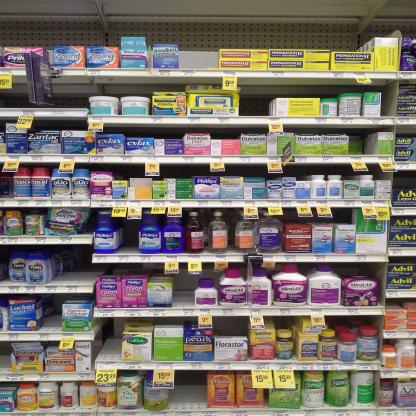Void: (173, 374, 207, 409), (59, 250, 93, 283), (275, 78, 334, 96), (179, 43, 219, 68), (98, 78, 148, 96), (54, 80, 87, 106), (243, 79, 268, 113), (2, 79, 31, 107), (99, 321, 119, 356), (213, 318, 247, 338), (41, 299, 61, 330), (176, 277, 197, 300), (350, 135, 367, 154), (0, 342, 11, 370)
